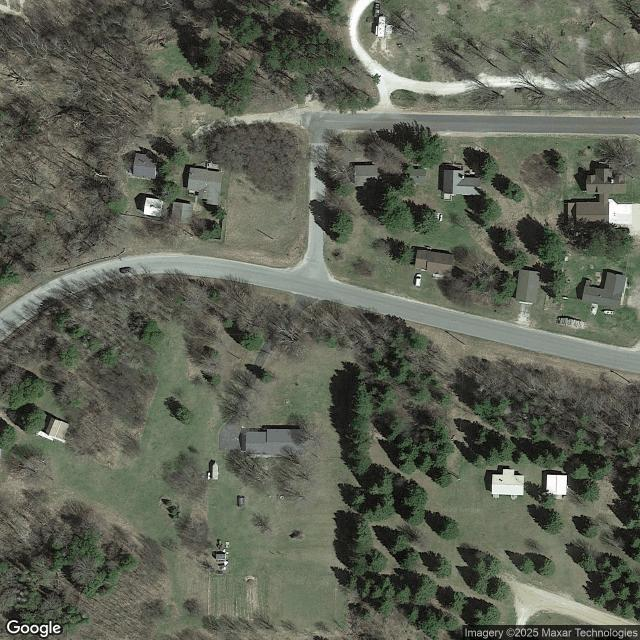Propane: (439, 214, 443, 223), (207, 471, 211, 480), (562, 296, 569, 300)
